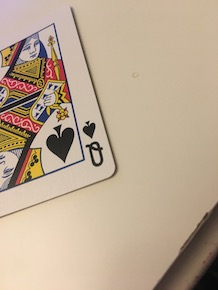QueenOfSpades: (1, 2, 120, 219)
